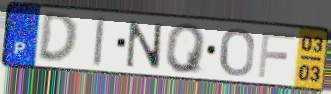D: (36, 11, 80, 66)
F: (256, 30, 297, 80)
I: (91, 15, 108, 69)
N: (125, 19, 164, 72)
O: (218, 26, 256, 78)
Q: (165, 22, 209, 75)
